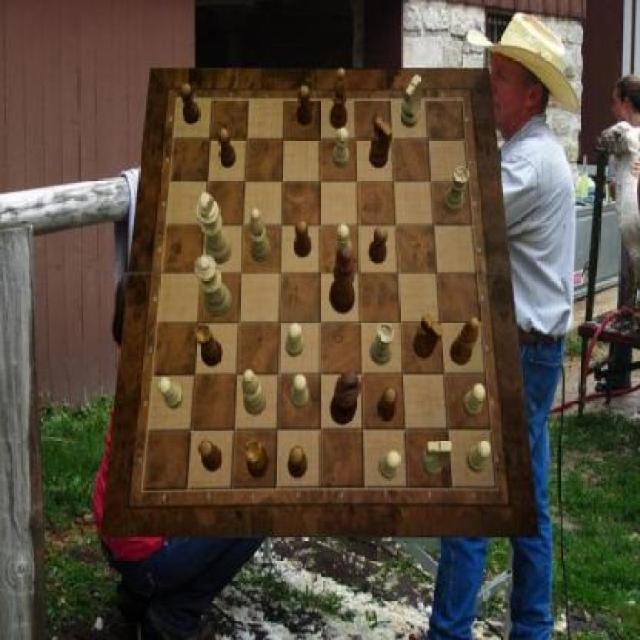bishop: (449, 319, 479, 366), (331, 68, 348, 129)
black-bishop: (331, 372, 362, 426)
black-king: (412, 312, 442, 358), (370, 117, 392, 169)
black-knight: (180, 83, 200, 125), (198, 440, 222, 472), (217, 128, 236, 168), (297, 85, 314, 126), (377, 388, 397, 422), (288, 446, 308, 479), (369, 228, 387, 264), (294, 220, 311, 258)
black-pawn: (329, 246, 356, 314)
black-queen: (195, 325, 223, 367), (244, 440, 268, 478)
black-rook: (249, 209, 270, 262), (242, 369, 266, 415)
white-bishop: (197, 194, 232, 266)
white-king: (400, 76, 421, 130), (422, 440, 452, 476)
white-knight: (158, 377, 184, 411), (468, 440, 492, 474), (463, 383, 486, 418), (284, 323, 304, 358), (334, 128, 351, 169), (378, 451, 401, 478), (291, 374, 308, 410), (336, 224, 352, 260)
white-pawn: (195, 254, 232, 316)
white-queen: (443, 167, 469, 216), (371, 323, 394, 365)
